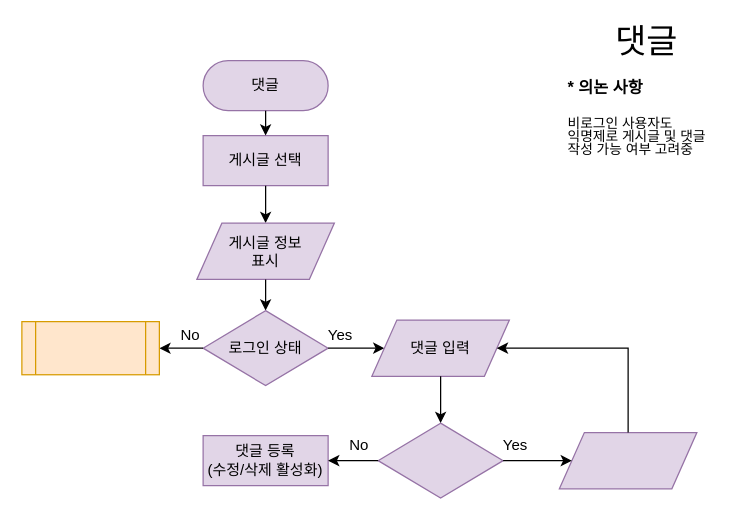
Image size: 750x520. Some labels were removed from this diagram. Each missing label, with the centre of its shape:
내용이 비었나: (x=440, y=460)
로그인 화면 진입: (x=90, y=347)
입력 검토 요청 안내: (x=627, y=460)
